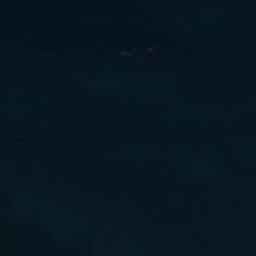Marine Debris: (74, 46, 141, 61)
